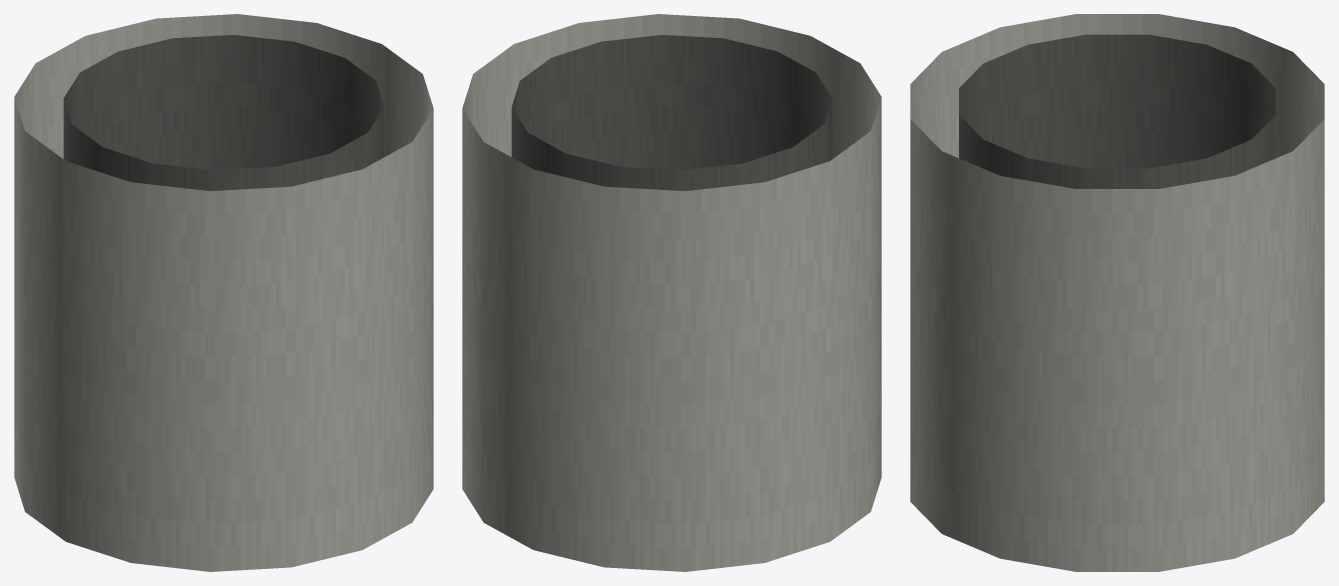
Rendered from mh_ring.obj.
The picture shows the model from 3 angles, left to right: view 1: azimuth 30°, elevation 25°; view 2: azimuth 150°, elevation 25°; view 3: azimuth 270°, elevation 25°; orthographic projection.
Visible parts, largest first — view 1: mh_ring; view 2: mh_ring; view 3: mh_ring.
Boxes of the visible parts, x1=… form: mh_ring: x1=14, y1=14, x2=433, y2=571; mh_ring: x1=462, y1=14, x2=881, y2=571; mh_ring: x1=910, y1=14, x2=1324, y2=571.
Bounding box in the file's own units: 0.9808 × 1 × 0.9808.
